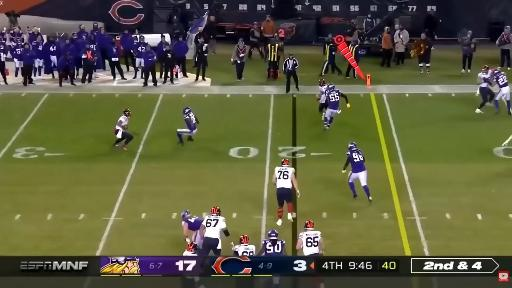Helmet: (187, 242, 197, 252), (305, 220, 314, 229), (240, 235, 249, 244), (211, 207, 221, 215), (268, 230, 278, 238), (183, 107, 192, 115), (182, 210, 190, 218), (326, 84, 335, 91), (348, 142, 357, 149), (318, 79, 325, 86), (282, 159, 289, 166), (123, 109, 130, 116), (482, 66, 489, 71), (140, 36, 145, 42), (494, 69, 500, 74)
Jersey: (202, 216, 226, 239), (299, 231, 321, 255), (347, 149, 365, 173), (275, 167, 294, 188), (262, 239, 285, 255), (182, 216, 202, 231), (327, 90, 340, 110), (184, 113, 197, 131), (115, 115, 129, 131), (494, 72, 508, 88), (234, 245, 255, 255), (134, 42, 147, 58), (478, 72, 491, 87), (11, 44, 23, 60), (32, 42, 43, 59), (46, 43, 58, 56), (319, 85, 326, 103), (183, 251, 197, 255)
Player: (343, 142, 372, 202), (273, 159, 299, 225), (200, 207, 229, 255), (324, 84, 350, 129), (296, 220, 323, 255), (476, 66, 494, 113), (493, 70, 511, 115), (177, 107, 198, 145), (114, 109, 133, 150), (257, 230, 286, 255), (182, 211, 202, 247), (133, 36, 147, 79), (31, 35, 43, 78), (231, 235, 255, 256), (10, 39, 23, 77), (232, 235, 255, 255), (319, 79, 328, 119), (184, 276, 204, 287), (183, 242, 198, 255)
